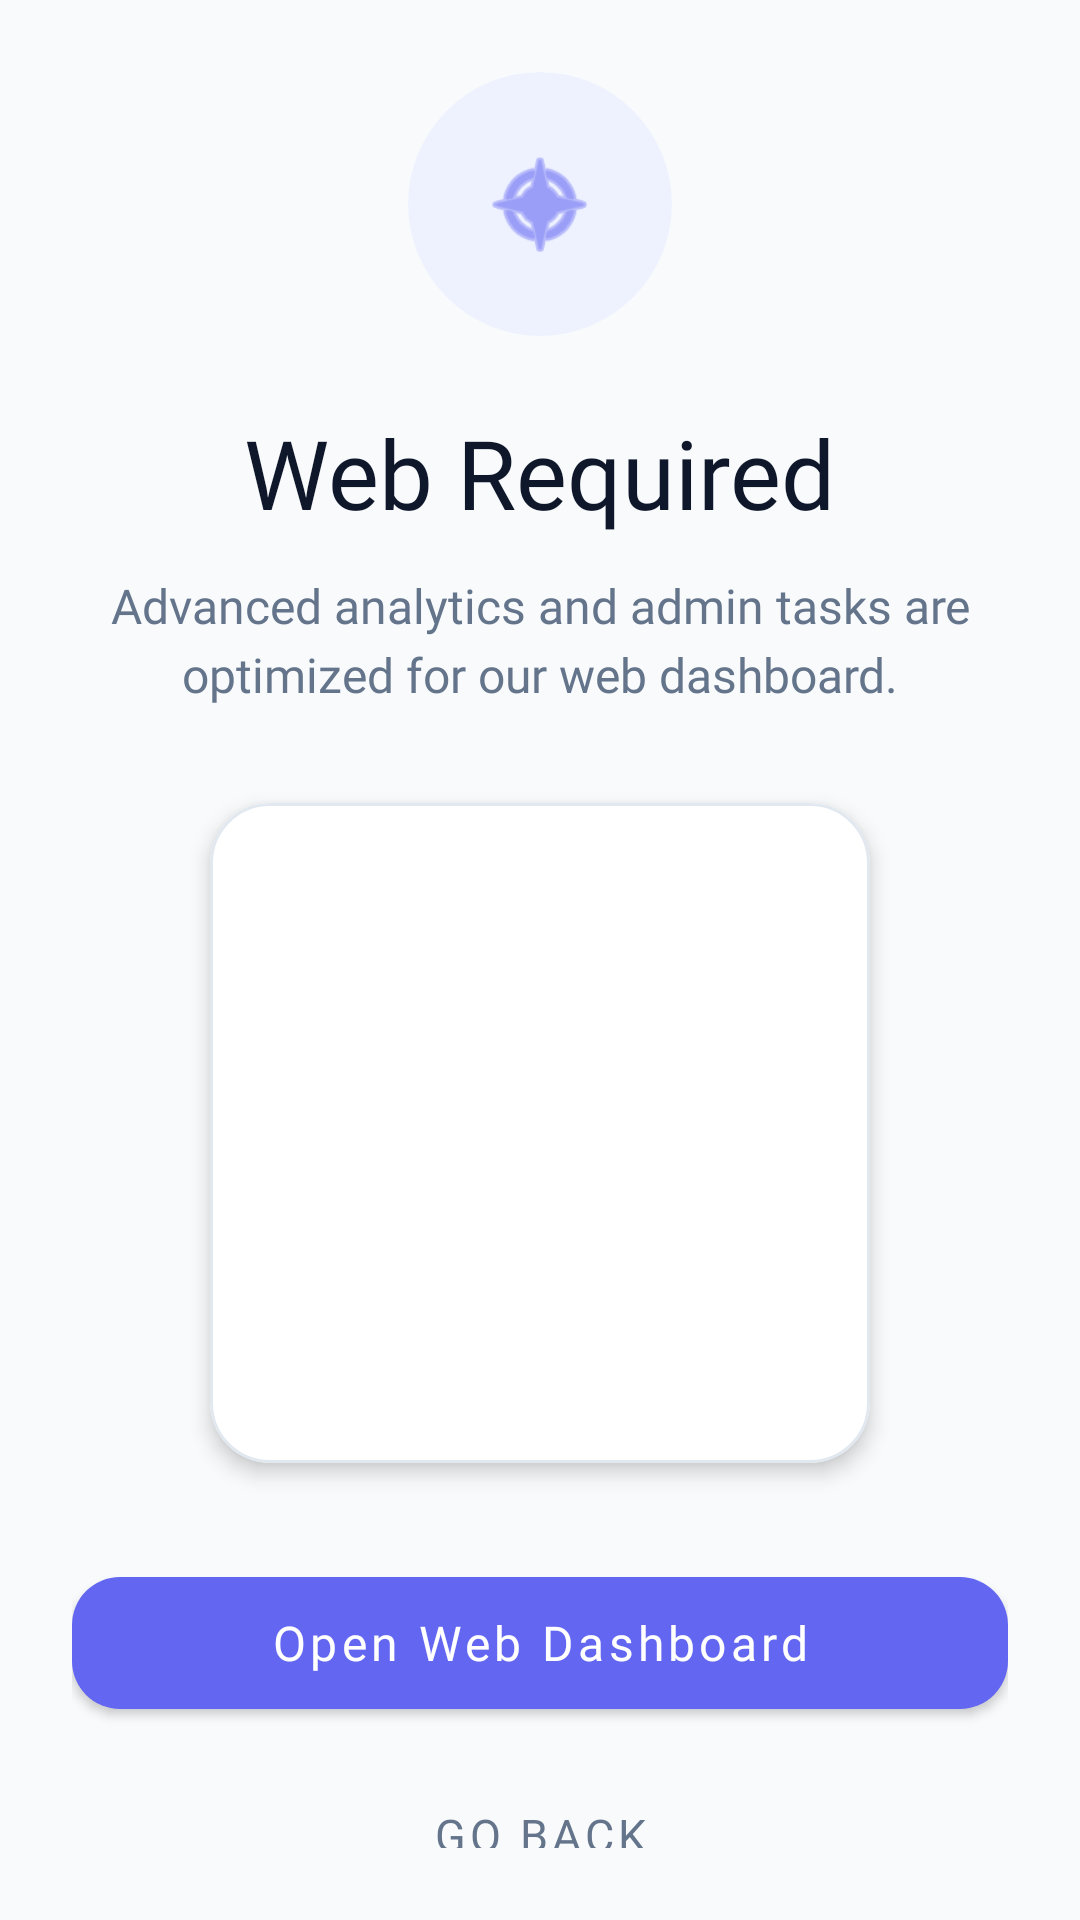

Icons on this 1080w x 1920h Android screen, each with the point to tap as [x,y]:
compass: [539,205]
